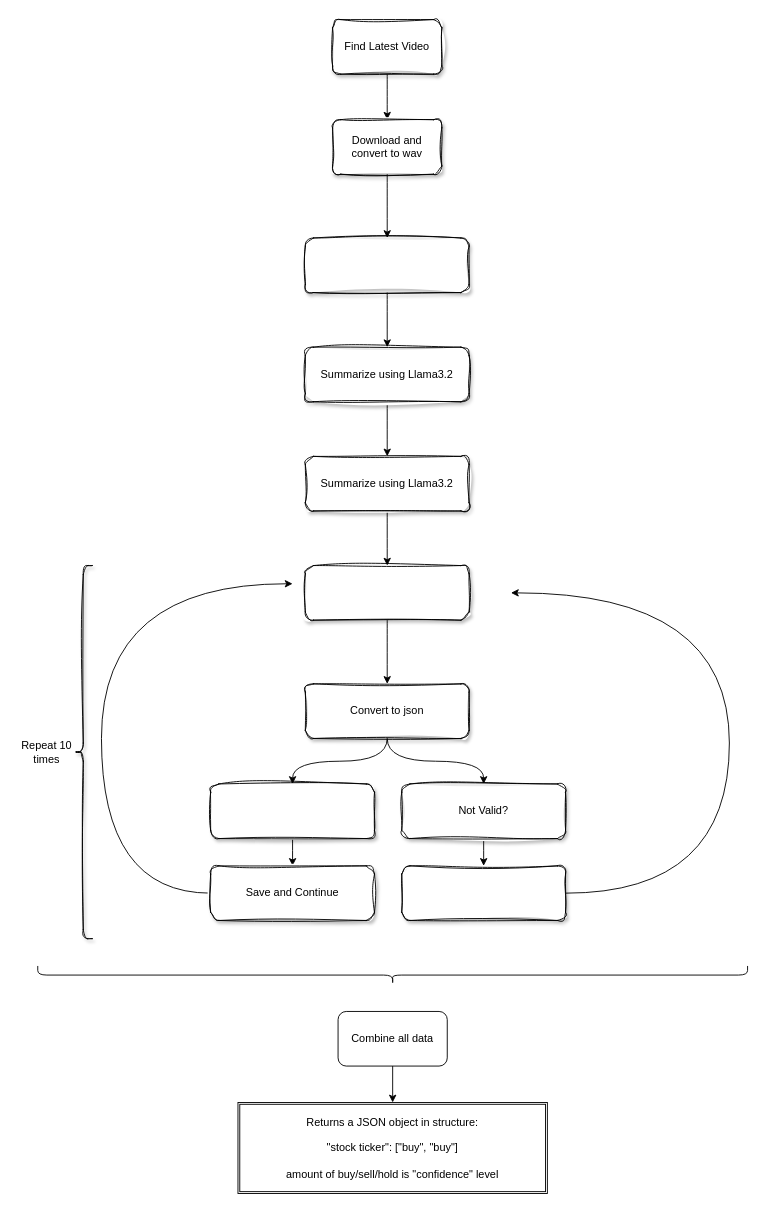
Some shapes in this 763 by 1209 pixel diagram are drawn without their labels. Each missing label, with the centre of its shape:
Discard and Continue: point (484, 894)
Is valid?: point (293, 812)
Use Whisper to convert speech to text: point (388, 266)
Using summerization, detect which stocks to buy/sell/hold: point (388, 594)
